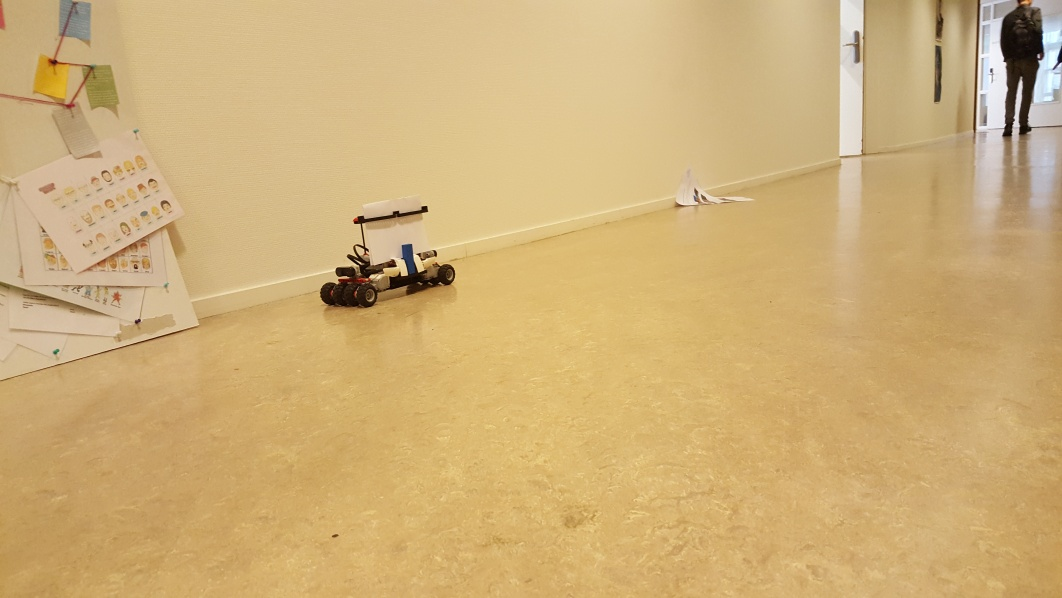beam: (398, 244, 420, 278)
